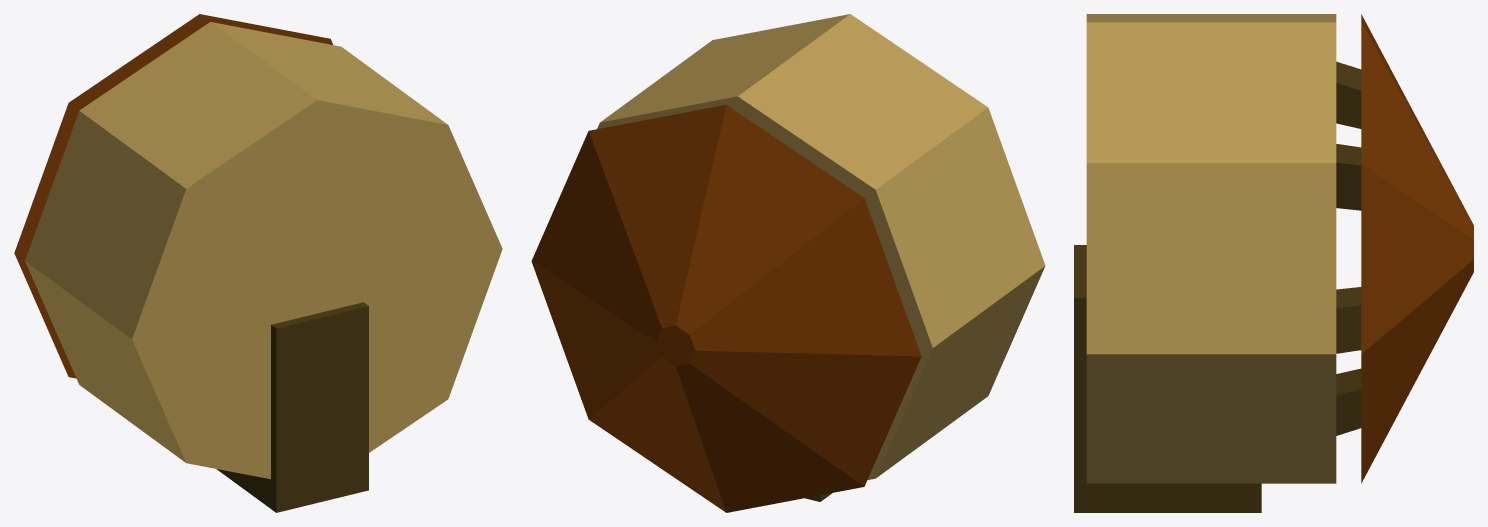
The model's file is Granary.fbx.
3 views of the same model, side by side, from view 1: azimuth 30°, elevation 25°; view 2: azimuth 150°, elevation 25°; view 3: azimuth 270°, elevation 25° (orthographic). The views are drawn at different scales.
Parts seen in each view (by area): view 1: Cylinder; view 2: Cylinder; view 3: Cylinder.
Part boxes in pixels (box(x1,y1,x2,y2)): Cylinder: box(14, 14, 502, 512); Cylinder: box(531, 14, 1045, 512); Cylinder: box(1074, 14, 1473, 512).
Bounding box in the file's own units: 4 × 4.1 × 3.2.
